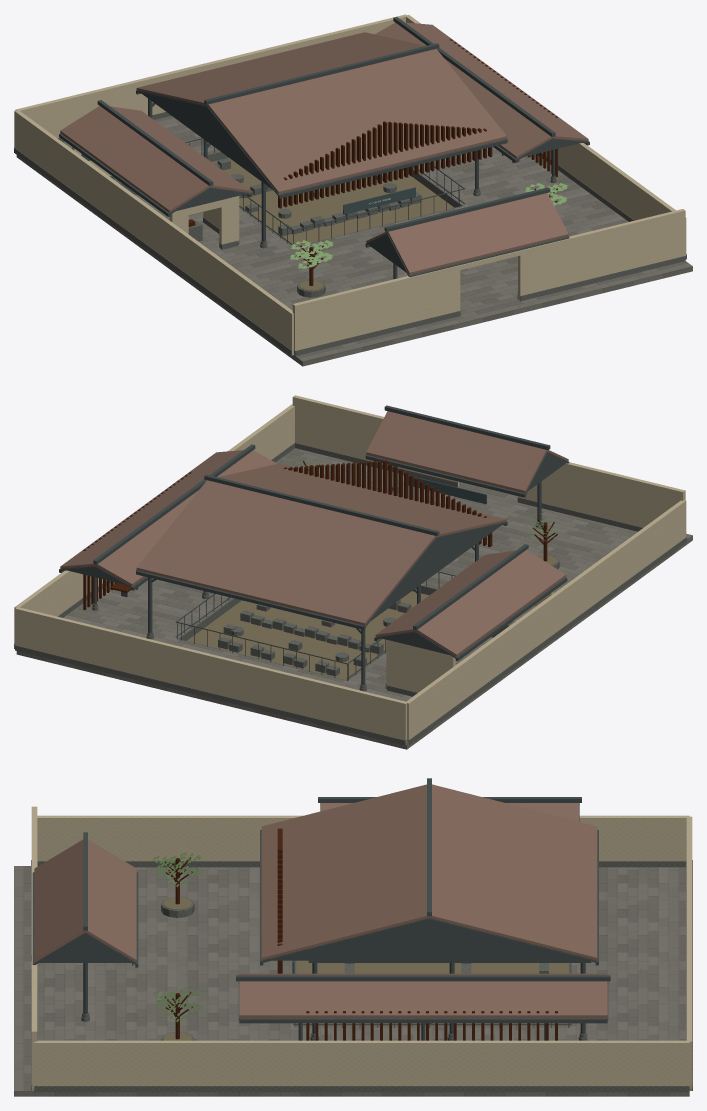
The model's file is shangqing.glb.
3 views of the same model, one above another, from view 1: azimuth 30°, elevation 25°; view 2: azimuth 150°, elevation 25°; view 3: azimuth 270°, elevation 25° (orthographic). The views are drawn at different scales.
Parts seen in each view (by area): view 1: shangqing_metalroof, shangqing_plaster, shangqing_paving, shangqing_steel, shangqing_stone, shangqing_earth, shangqing_wood, shangqing_leaf, shangqing_sign; view 2: shangqing_metalroof, shangqing_plaster, shangqing_paving, shangqing_steel, shangqing_stone, shangqing_earth, shangqing_wood, shangqing_sign; view 3: shangqing_metalroof, shangqing_paving, shangqing_plaster, shangqing_steel, shangqing_stone, shangqing_earth, shangqing_wood, shangqing_leaf.
Part boxes in pixels (bbox=[...]): shangqing_metalroof: bbox=[60, 22, 588, 275]; shangqing_plaster: bbox=[14, 14, 686, 355]; shangqing_paving: bbox=[16, 116, 692, 366]; shangqing_steel: bbox=[59, 17, 589, 279]; shangqing_stone: bbox=[14, 112, 686, 356]; shangqing_earth: bbox=[212, 158, 454, 290]; shangqing_wood: bbox=[118, 39, 557, 285]; shangqing_leaf: bbox=[290, 183, 567, 268]; shangqing_sign: bbox=[81, 154, 415, 214]; shangqing_metalroof: bbox=[60, 411, 568, 656]; shangqing_plaster: bbox=[14, 395, 686, 744]; shangqing_paving: bbox=[16, 448, 692, 749]; shangqing_steel: bbox=[59, 405, 569, 685]; shangqing_stone: bbox=[14, 443, 686, 745]; shangqing_earth: bbox=[187, 555, 557, 679]; shangqing_wood: bbox=[83, 460, 557, 623]; shangqing_sign: bbox=[408, 475, 486, 504]; shangqing_metalroof: bbox=[34, 784, 607, 1018]; shangqing_paving: bbox=[14, 866, 689, 1096]; shangqing_plaster: bbox=[31, 806, 692, 1090]; shangqing_steel: bbox=[32, 778, 610, 1040]; shangqing_stone: bbox=[31, 860, 692, 1092]; shangqing_earth: bbox=[163, 897, 568, 1040]; shangqing_wood: bbox=[164, 828, 557, 1040]; shangqing_leaf: bbox=[153, 852, 202, 1022].
Bounding box in the file's own units: 26.45 × 7.98 × 33.17.
Materials: 10 (4 with a texture image).
